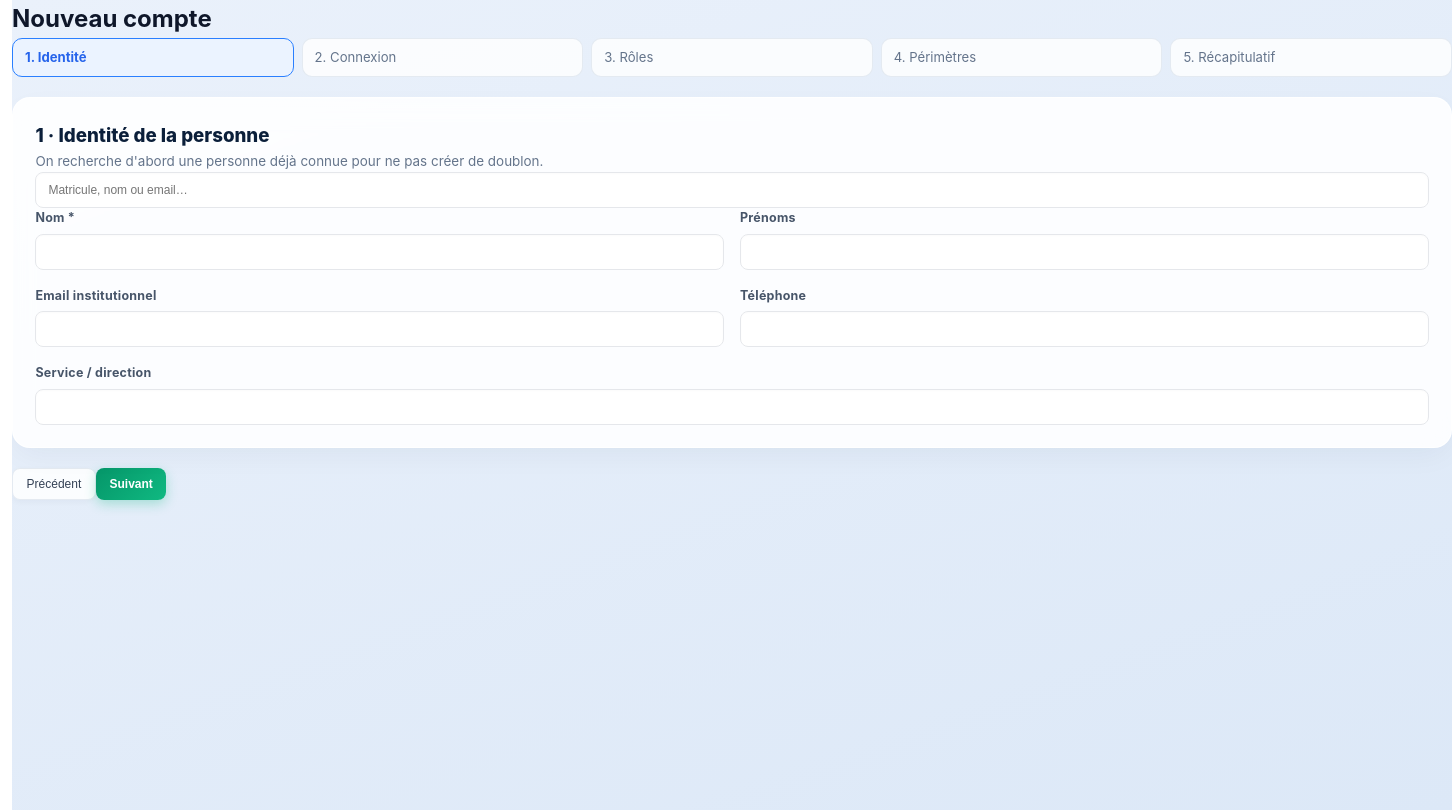
Test: AssistantCreation — 5 étapes › propose de rattacher une personne déjà connue (anti-doublon)
This screenshot has width=1452, height=810.
In the field with test id "recherche-personne": (732, 190) [35, 172, 1429, 208], type "Toure"
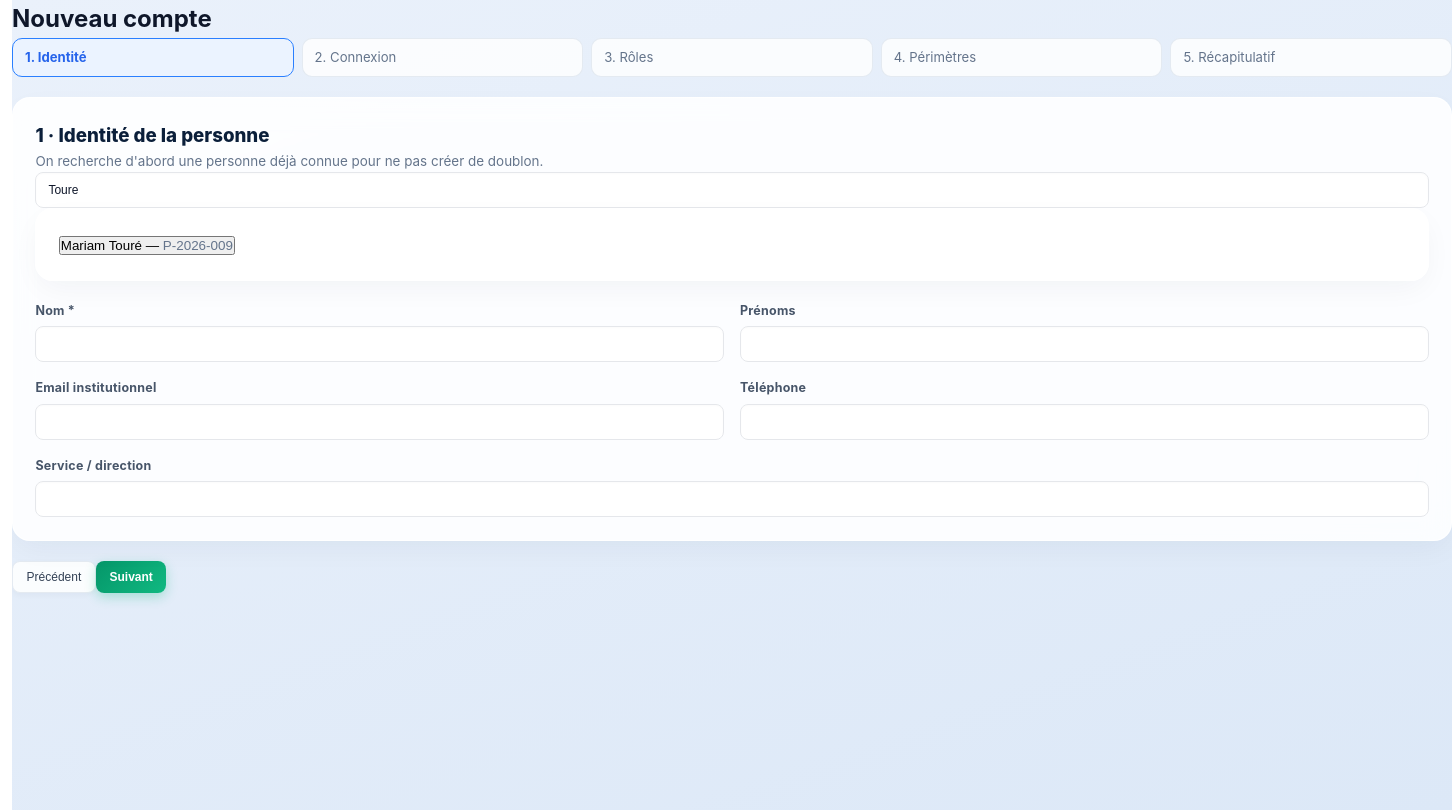
Expected: the element with test id "resultats-personne" is shown, [35, 208, 1429, 281]
Click the button "Mariam Touré — P-2026-009": (147, 245) [59, 236, 235, 255]
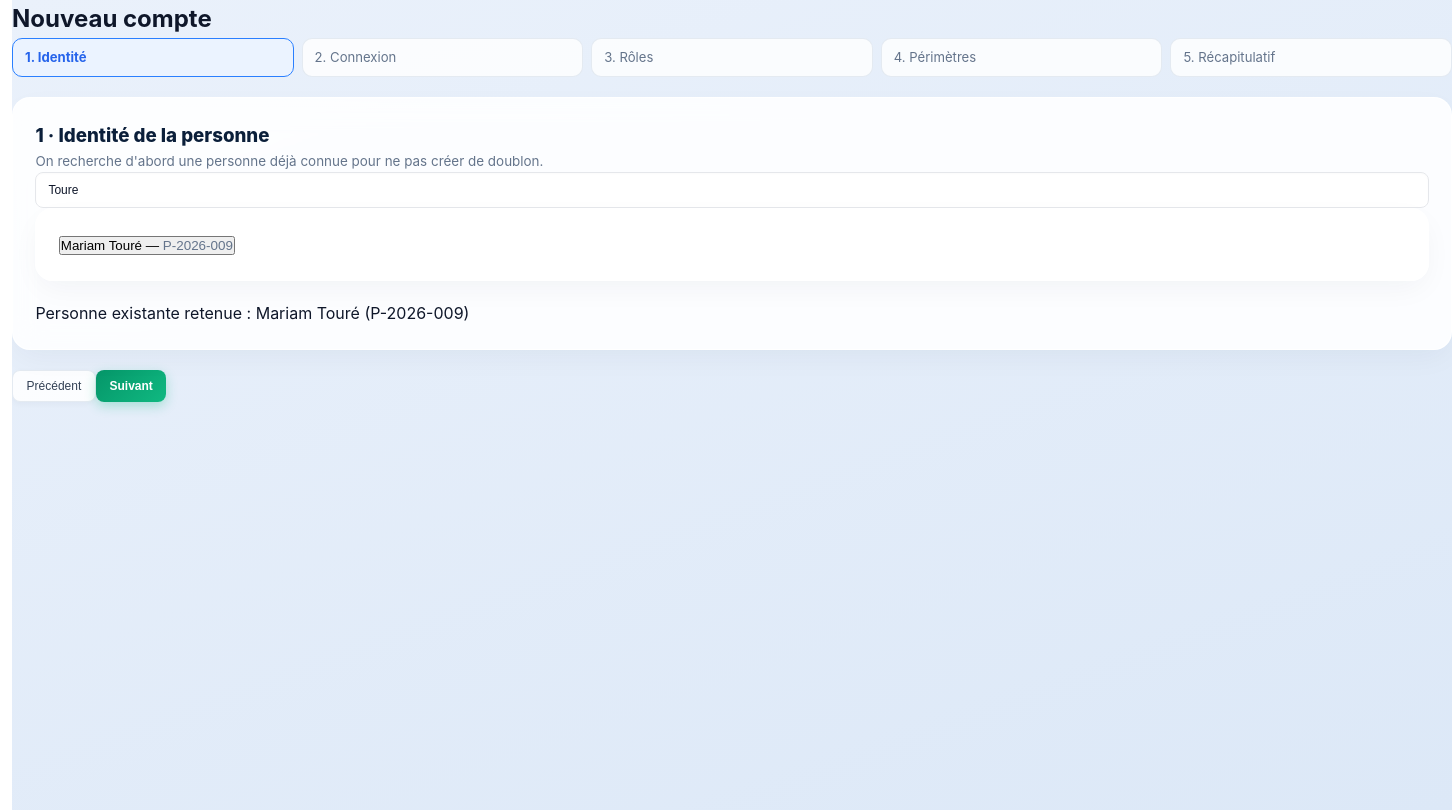
Expected: the text "Personne existante retenue : Mariam Touré (P-2026-009)" is shown, [35, 303, 469, 323]
Expected: the button with test id "bouton-suivant" is enabled, [96, 370, 166, 402]
